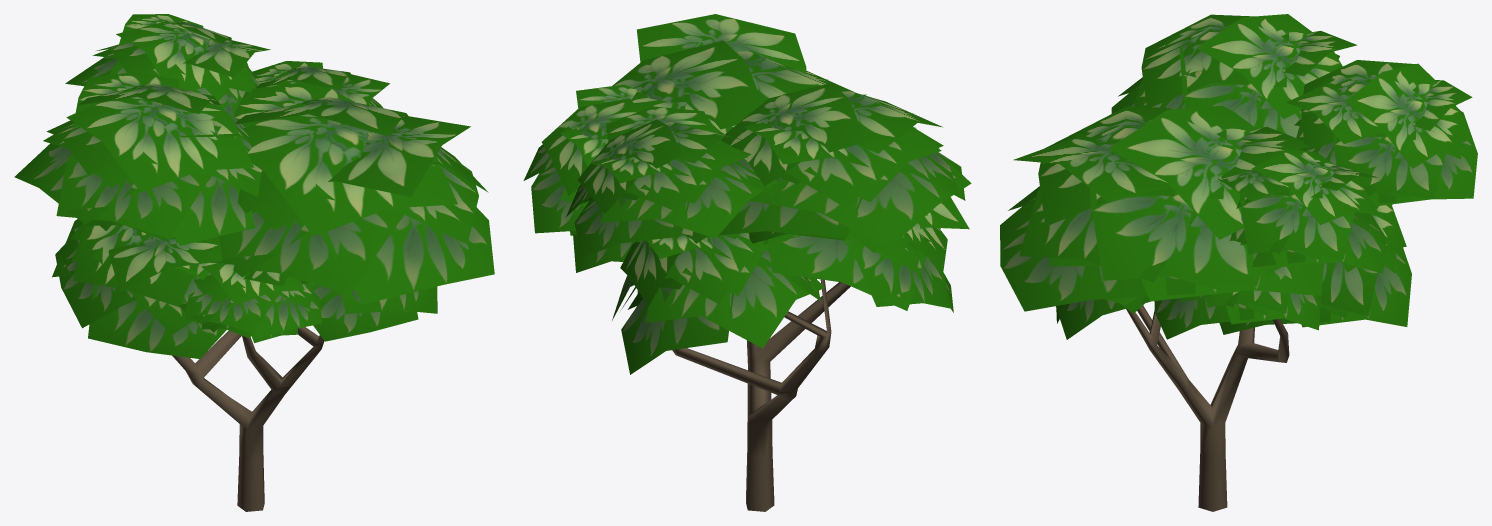
Rendered from Tree_005_Mesh_001.fbx.
3 views of the same model, side by side, from view 1: azimuth 30°, elevation 25°; view 2: azimuth 150°, elevation 25°; view 3: azimuth 270°, elevation 25° (orthographic). The views are drawn at different scales.
Parts seen in each view (by area): view 1: Tree_005_Mesh_001; view 2: Tree_005_Mesh_001; view 3: Tree_005_Mesh_001.
Part boxes in pixels (x1=…): Tree_005_Mesh_001: x1=14, y1=14, x2=494, y2=511; Tree_005_Mesh_001: x1=523, y1=14, x2=971, y2=511; Tree_005_Mesh_001: x1=1000, y1=14, x2=1477, y2=511.
Bounding box in the file's own units: 4080 × 4261 × 4218.
